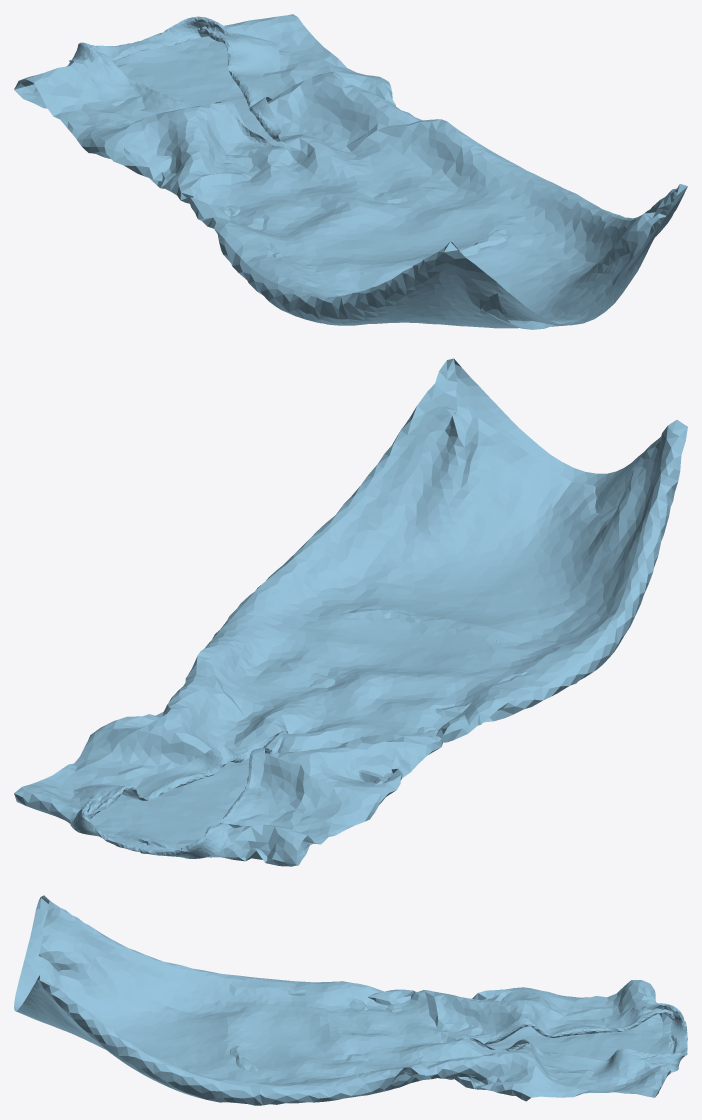
File: frame_02.glb
3 views of the same model, one above another, from view 1: azimuth 30°, elevation 25°; view 2: azimuth 150°, elevation 25°; view 3: azimuth 270°, elevation 25° (orthographic). The views are drawn at different scales.
Parts seen in each view (by area): view 1: frame_02.obj; view 2: frame_02.obj; view 3: frame_02.obj.
Boxes of the visible parts, x1,y1,x2,y2 form: frame_02.obj: (14,14,687,329); frame_02.obj: (14,358,687,866); frame_02.obj: (14,895,687,1105).
Bounding box in the file's own units: 0.6767 × 0.3078 × 1.61.
